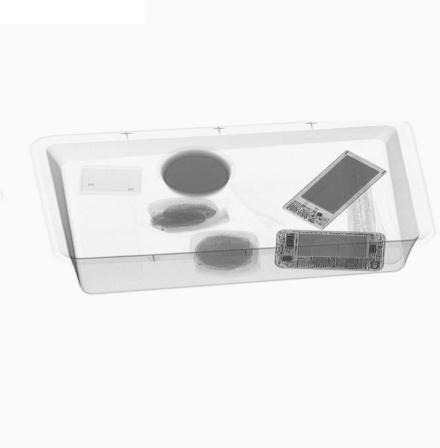Powerbank: (280, 150, 391, 231)
